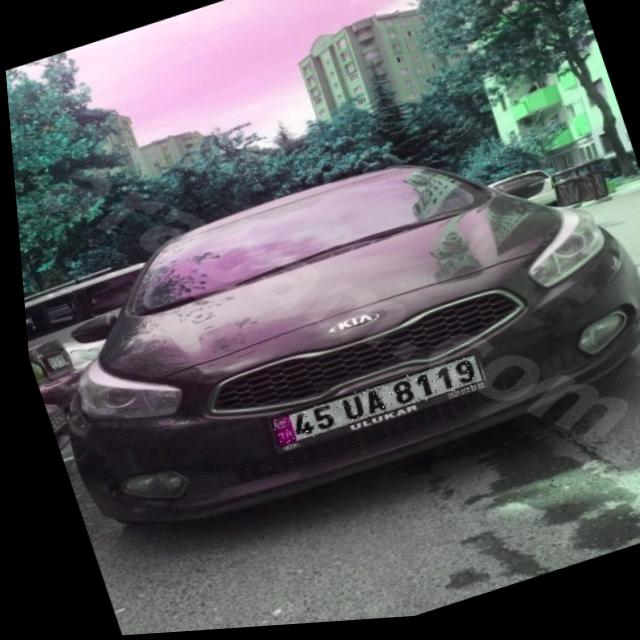license_plate: (258, 358, 480, 451)
